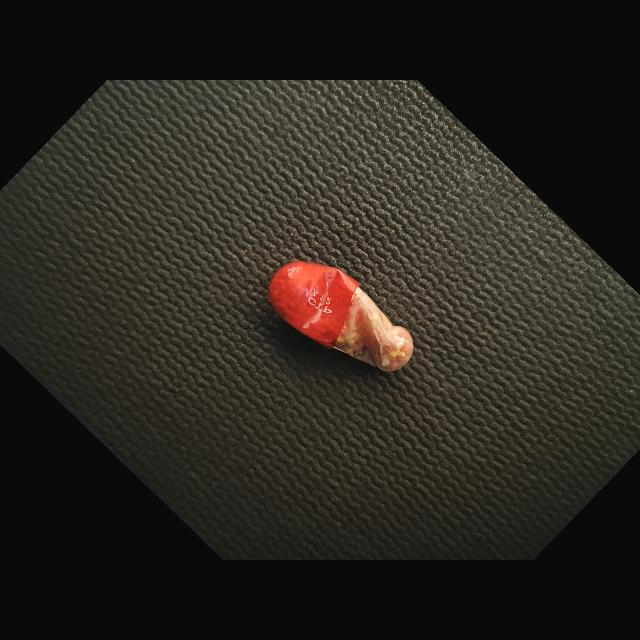Defective Capsule: (269, 261, 414, 371)
